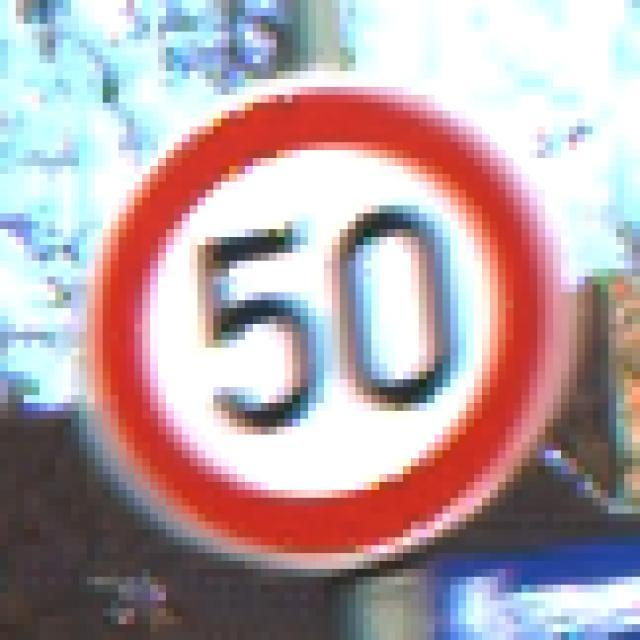speed limit 50: (73, 75, 581, 585)
